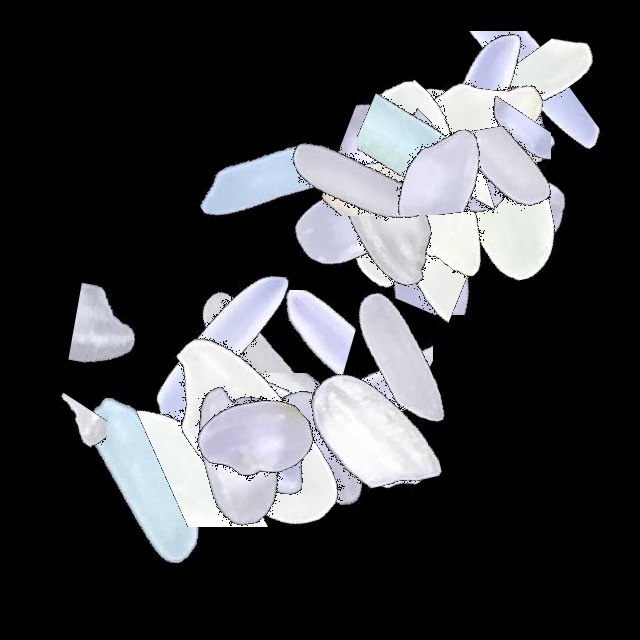Broken: (337, 46, 511, 296), (464, 52, 623, 302), (307, 60, 557, 215), (334, 87, 487, 337), (325, 163, 575, 315), (313, 90, 563, 238), (383, 126, 633, 272), (366, 31, 616, 176), (357, 27, 501, 277), (143, 373, 393, 511), (107, 390, 357, 527), (272, 83, 522, 216), (302, 220, 433, 470), (317, 74, 567, 204), (352, 150, 602, 278), (337, 56, 463, 306), (474, 0, 593, 250), (436, 38, 551, 288), (5, 275, 255, 389), (170, 349, 420, 456), (172, 290, 422, 395), (13, 322, 107, 572), (320, 152, 570, 240), (382, 18, 462, 268), (397, 76, 477, 326), (193, 247, 273, 497)
Full: (281, 76, 531, 326), (252, 85, 502, 335), (128, 227, 378, 477), (17, 354, 267, 604), (129, 298, 379, 548), (222, 95, 472, 345), (383, 78, 633, 328), (203, 310, 453, 560), (193, 322, 443, 572), (275, 233, 525, 483), (144, 53, 394, 303), (361, 2, 611, 252), (344, 0, 594, 250), (362, 0, 612, 250), (325, 26, 575, 276), (97, 231, 347, 481), (304, 59, 554, 309), (263, 91, 513, 341), (249, 302, 499, 552), (234, 53, 484, 303), (124, 310, 374, 560), (137, 318, 387, 568), (112, 328, 362, 578), (131, 315, 381, 565)
